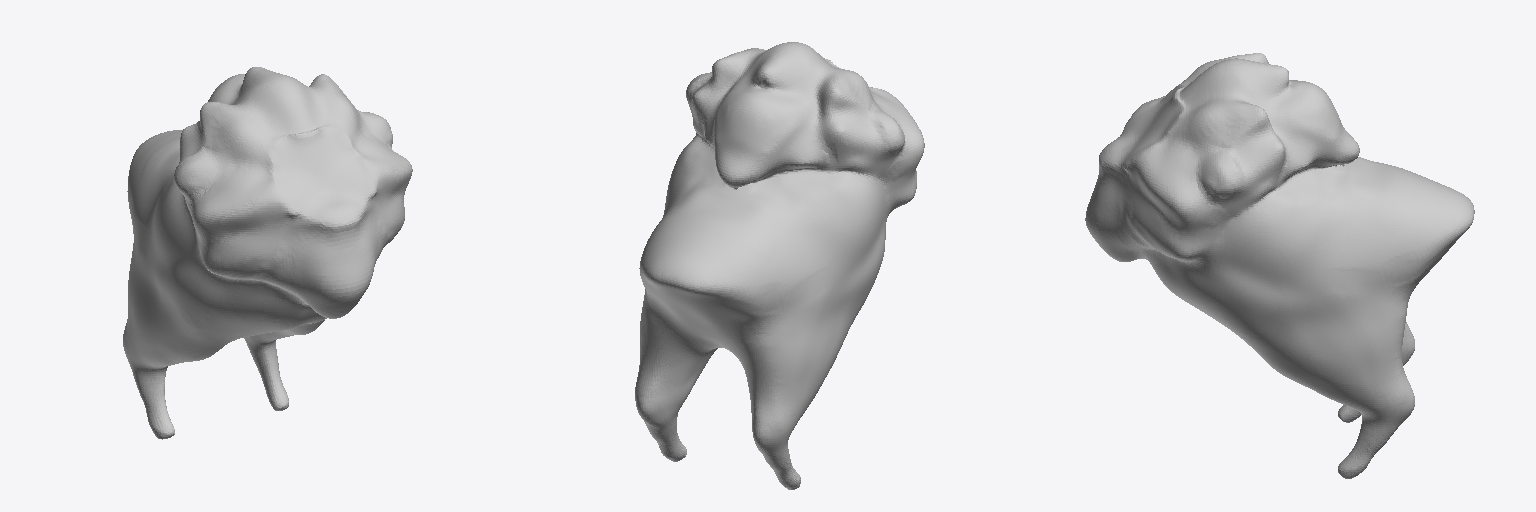
Rendered from hiboux body.obj.
3 renders of one model, left to right at view 1: azimuth 30°, elevation 25°; view 2: azimuth 150°, elevation 25°; view 3: azimuth 270°, elevation 25°, orthographic.
Parts seen in each view (by area): view 1: ZBrush_defualt_group; view 2: ZBrush_defualt_group; view 3: ZBrush_defualt_group.
Part boxes in pixels (x1,y1,x2,y2): ZBrush_defualt_group: (123,67,412,439); ZBrush_defualt_group: (635,42,924,489); ZBrush_defualt_group: (1085,53,1474,478).
Size of the model in its own units: 3.68 by 6.4 by 5.81.